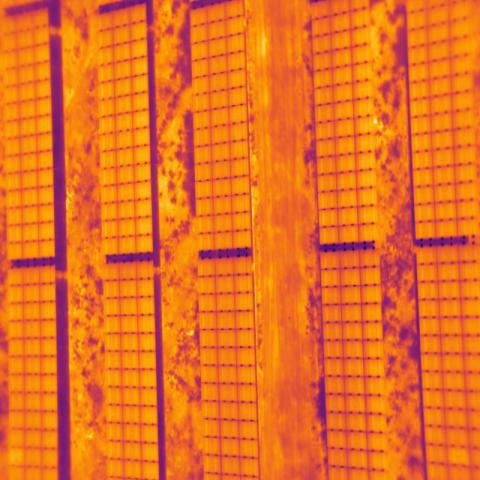fault: (8, 449, 25, 468)
